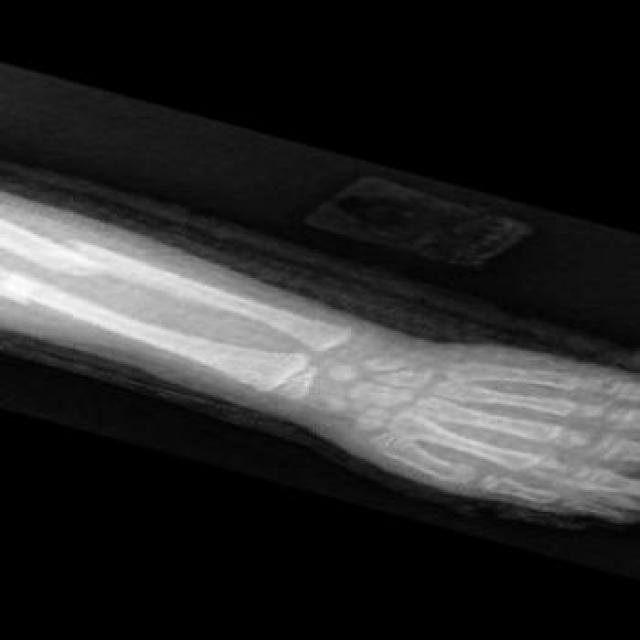fracture: (41, 237, 122, 284), (11, 282, 44, 312)
